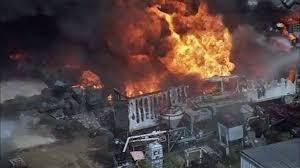fire: (126, 1, 237, 83), (74, 68, 104, 89)
